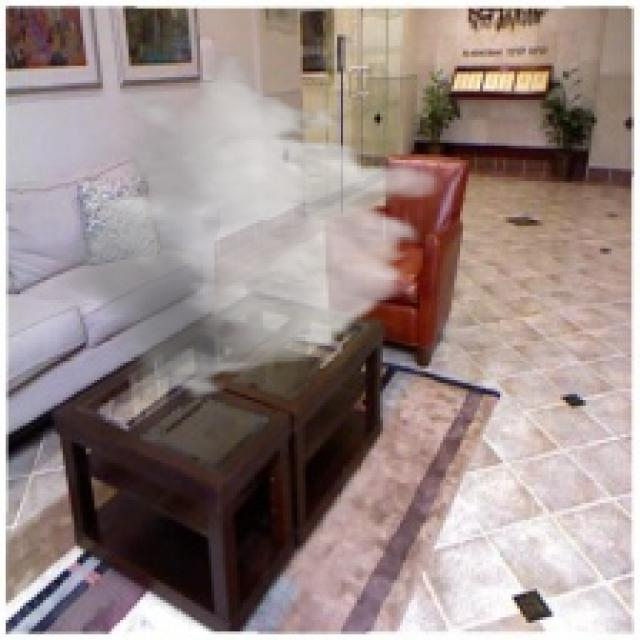smoke: (51, 51, 448, 400)
